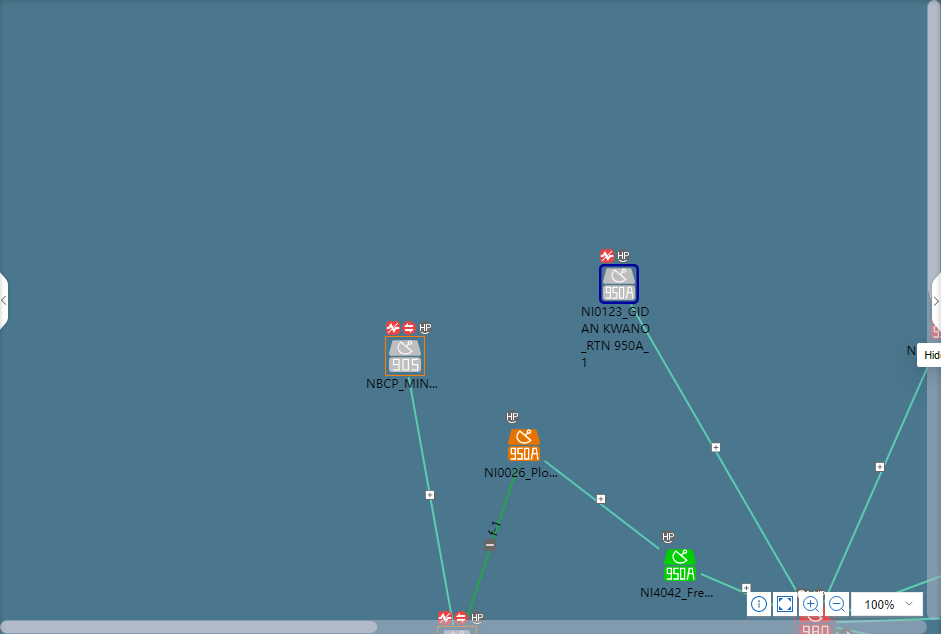Link_Blue: (630, 305, 797, 593), (827, 368, 927, 592), (406, 378, 455, 625), (543, 459, 661, 553), (699, 572, 742, 594), (895, 575, 941, 592), (835, 617, 940, 624)
Link_Green: (465, 466, 522, 619)
RTN_Gray: (386, 339, 422, 374), (601, 268, 635, 301)
RTN_Green: (664, 550, 696, 582)
RTN_Orange: (508, 430, 539, 462)
